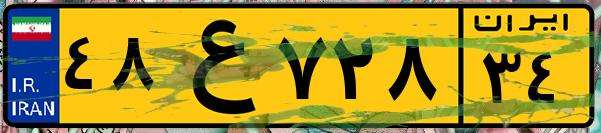2: (330, 28, 385, 110)
3: (475, 38, 525, 113)
4: (57, 26, 110, 100), (525, 38, 570, 115)
7: (270, 28, 330, 110)
8: (385, 28, 445, 110), (110, 28, 158, 98)
ع: (158, 12, 270, 120)
